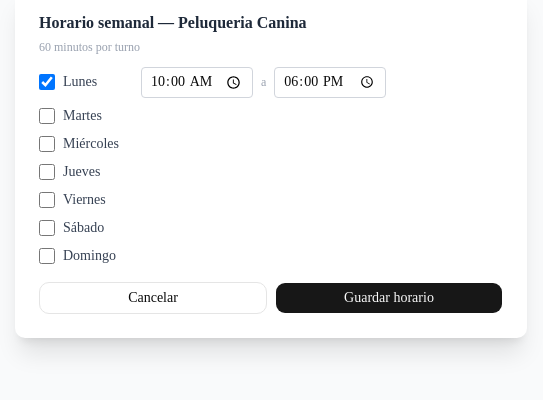
it: HorarioSemanalEditor (HSR-XX) › HSR-02: hora_fin antes de hora_inicio → PUT 400 y el error del backend se muestra en el modal
# Cambiar la hora de fin del Lunes a 09:00 (antes del inicio 10:00).
Replace the text in the 2nd time field showing "18:00" with "09:00" at (330, 82), box [274,67,386,98]
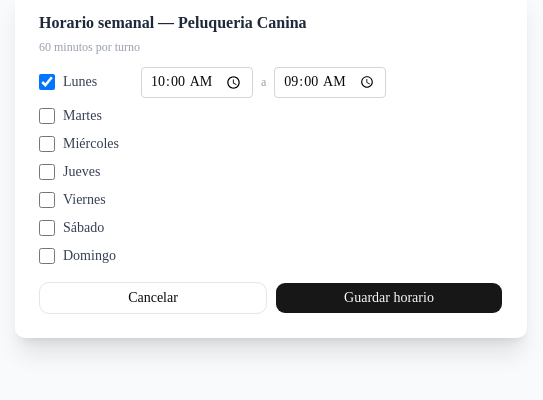
Click the button "Guardar horario" at (389, 298), box [275,282,503,314]
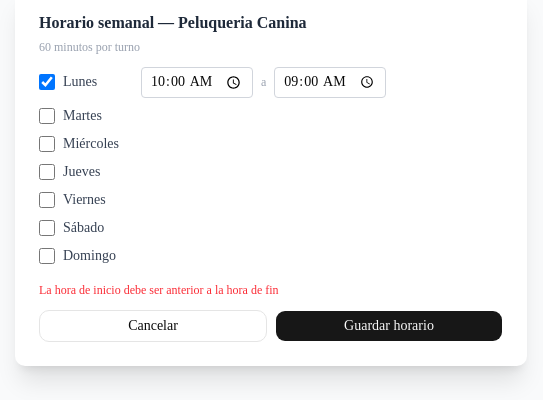
Check: the button "Guardar horario" is shown, box [275,310,503,342]
Check: the text "La hora de inicio debe ser anterior a la hora de fin" is shown, box [39,283,279,297]
